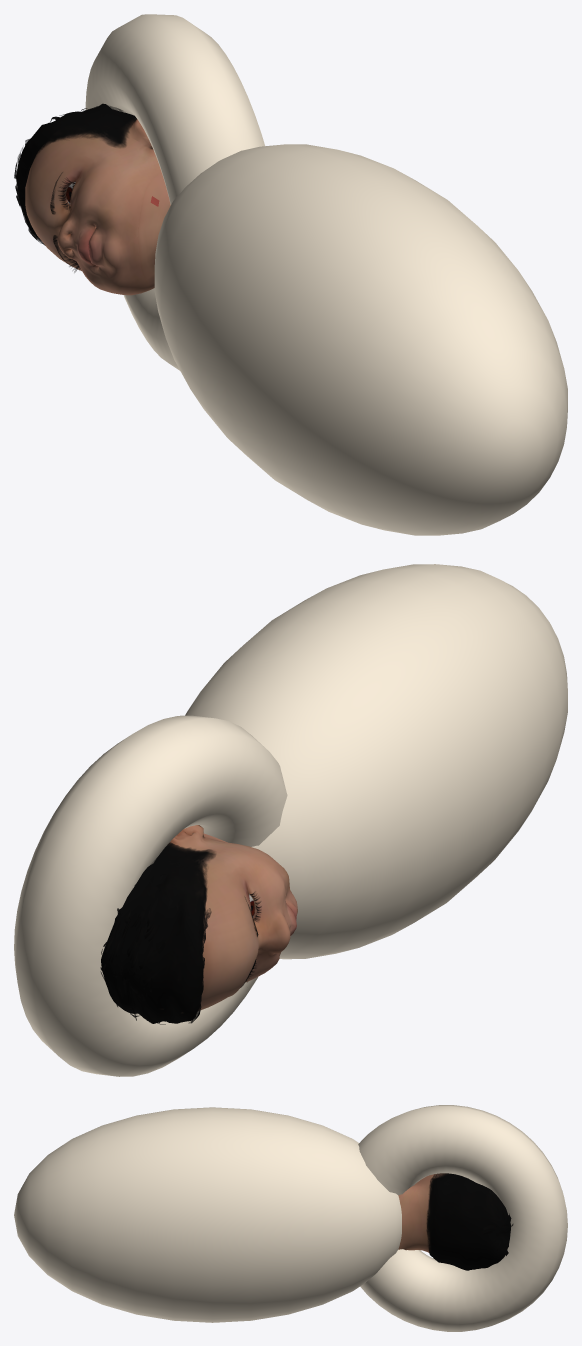
Rendered from d-baby.glb.
3 views of the same model, one above another, from view 1: azimuth 30°, elevation 25°; view 2: azimuth 150°, elevation 25°; view 3: azimuth 270°, elevation 25° (orthographic). The views are drawn at different scales.
Visible parts, largest first — view 1: Blanket, Hood, d-baby_body, Human.short01; view 2: Blanket, Hood, Human.short01, d-baby_body; view 3: Blanket, Hood, Human.short01, d-baby_body.
Boxes of the visible parts, x1,y1,x2,y2 form: Blanket: (154,144,567,535); Hood: (85,14,264,370); d-baby_body: (25,118,170,295); Human.short01: (14,103,136,245); Blanket: (185,564,567,959); Hood: (14,715,287,1076); Human.short01: (100,842,215,1024); d-baby_body: (169,825,297,1009); Blanket: (14,1107,401,1322); Hood: (358,1105,567,1331); Human.short01: (426,1173,513,1270); d-baby_body: (398,1173,445,1263).
Bounding box in the file's own units: 0.1992 × 0.2391 × 0.5582.
6 materials, 5 textured.
